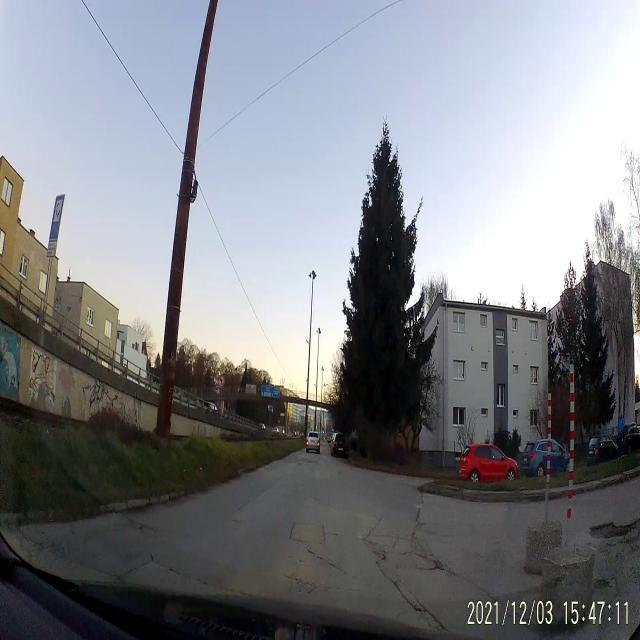Pothole: (372, 537, 452, 594), (588, 514, 640, 549)
